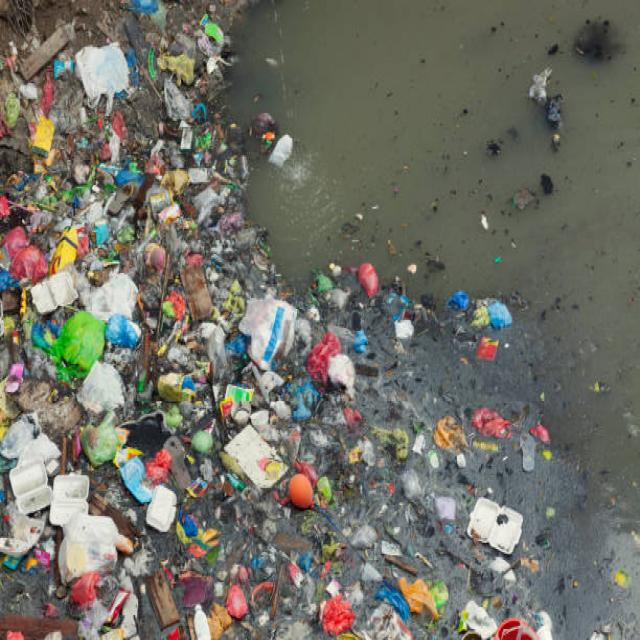cardboard: (224, 425, 285, 513)
plastic: (144, 215, 269, 361), (65, 316, 132, 418), (314, 332, 372, 397)
